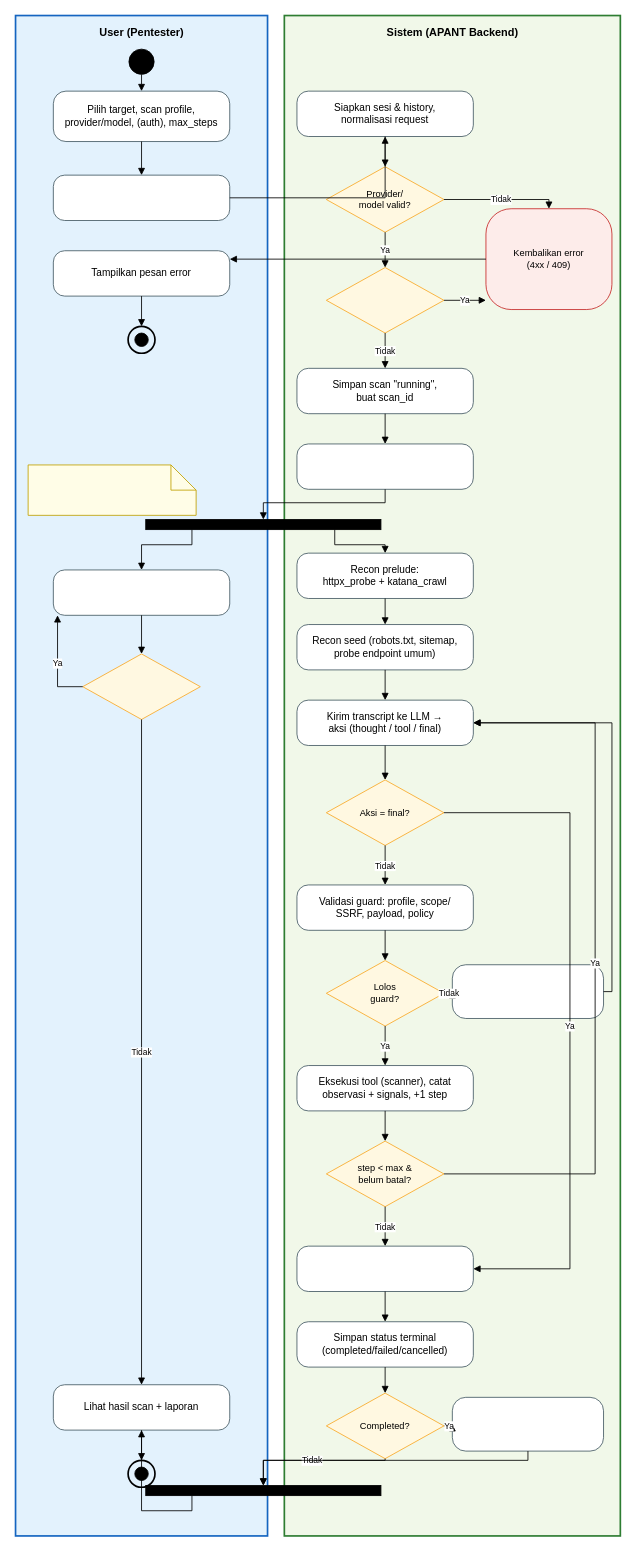
The diagram is 635 pixels wide and 1551 high, and some of its shapes have lost their labels. The centre of each missing label's shape, as x and y in pixels:
Ada scan berjalan?: point (385, 300)
Catat REJECTED, tambah ke transcript: point (528, 991)
Generate report otomatis: point (528, 1423)
Kembalikan scan_id (202): point (384, 466)
Opsional: klik Cancel → sistem menghentikan loop di antara langkah: point (111, 489)
Polling GET /scans/:id secara berkala: point (141, 592)
Status masih "running"?: point (141, 686)
Submit "Run Dynamic Scan": point (141, 197)
Susun final answer (bila kosong): point (384, 1268)
